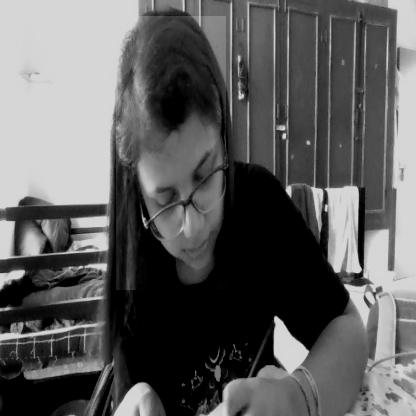Distracted: (116, 17, 226, 290)
